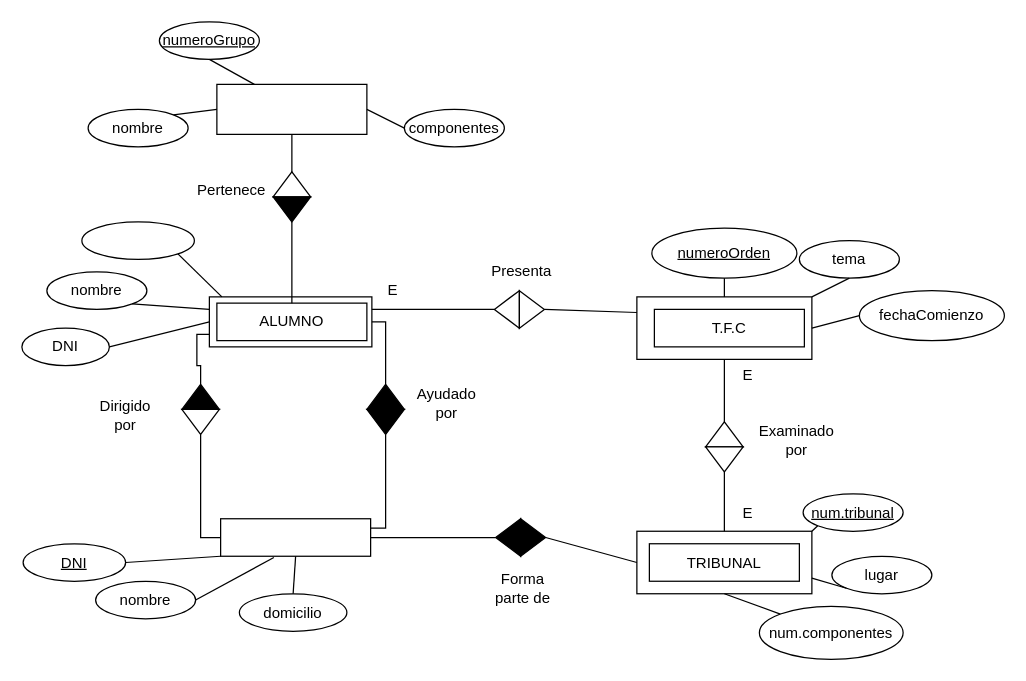
The diagram is 1026 pixels wide and 681 high, and some of its shapes have lost their labels. The shapes that lost their labels are listed below. From the top down, each one's centre as x and y in pixels, then its label:
At pixel 291 108: "GRUPO INVESTIGACIÓN".
At pixel 137 240: "num.matricula".
At pixel 295 537: "PROFESOR".
